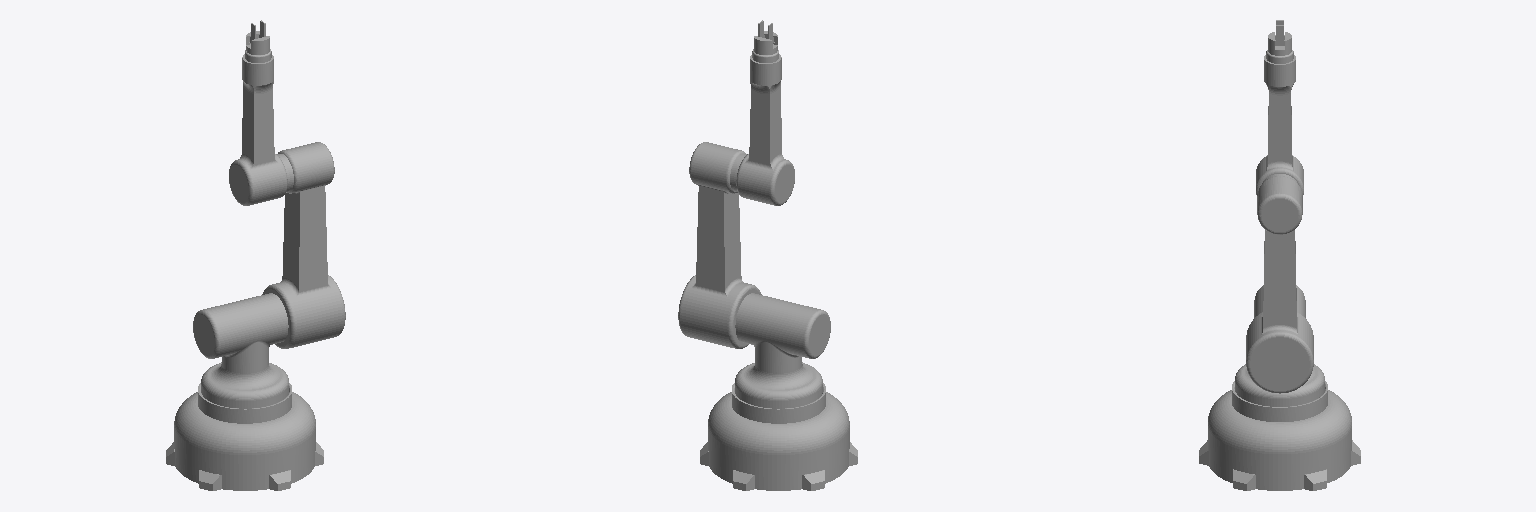
The robot description file, URDF, robot "assemblyhw":
<?xml version="1.0" ?>
<!-- =================================================================================== -->
<!-- |    This document was autogenerated by xacro from urdf/assemblyhw.xacro          | -->
<!-- |    EDITING THIS FILE BY HAND IS NOT RECOMMENDED                                 | -->
<!-- =================================================================================== -->
<robot xmlns:xacro="http://www.ros.org/wiki/xacro" name="assemblyhw">
  <material name="silver">
    <color rgba="0.700 0.700 0.700 1.000"/>
  </material>
  <transmission name="hand1_tran">
    <type>transmission_interface/SimpleTransmission</type>
    <joint name="hand1">
      <hardwareInterface>hardware_interface/EffortJointInterface</hardwareInterface>
    </joint>
    <actuator name="hand1_actr">
      <hardwareInterface>hardware_interface/EffortJointInterface</hardwareInterface>
      <mechanicalReduction>1</mechanicalReduction>
    </actuator>
  </transmission>
  <transmission name="hand2_tran">
    <type>transmission_interface/SimpleTransmission</type>
    <joint name="hand2">
      <hardwareInterface>hardware_interface/EffortJointInterface</hardwareInterface>
    </joint>
    <actuator name="hand2_actr">
      <hardwareInterface>hardware_interface/EffortJointInterface</hardwareInterface>
      <mechanicalReduction>1</mechanicalReduction>
    </actuator>
  </transmission>
  <transmission name="base1_tran">
    <type>transmission_interface/SimpleTransmission</type>
    <joint name="base1">
      <hardwareInterface>hardware_interface/EffortJointInterface</hardwareInterface>
    </joint>
    <actuator name="base1_actr">
      <hardwareInterface>hardware_interface/EffortJointInterface</hardwareInterface>
      <mechanicalReduction>1</mechanicalReduction>
    </actuator>
  </transmission>
  <transmission name="Revolute 9_tran">
    <type>transmission_interface/SimpleTransmission</type>
    <joint name="Revolute 9">
      <hardwareInterface>hardware_interface/EffortJointInterface</hardwareInterface>
    </joint>
    <actuator name="Revolute 9_actr">
      <hardwareInterface>hardware_interface/EffortJointInterface</hardwareInterface>
      <mechanicalReduction>1</mechanicalReduction>
    </actuator>
  </transmission>
  <transmission name="Slider 10_tran">
    <type>transmission_interface/SimpleTransmission</type>
    <joint name="Slider 10">
      <hardwareInterface>hardware_interface/EffortJointInterface</hardwareInterface>
    </joint>
    <actuator name="Slider 10_actr">
      <hardwareInterface>hardware_interface/EffortJointInterface</hardwareInterface>
      <mechanicalReduction>1</mechanicalReduction>
    </actuator>
  </transmission>
  <transmission name="Slider 11_tran">
    <type>transmission_interface/SimpleTransmission</type>
    <joint name="Slider 11">
      <hardwareInterface>hardware_interface/EffortJointInterface</hardwareInterface>
    </joint>
    <actuator name="Slider 11_actr">
      <hardwareInterface>hardware_interface/EffortJointInterface</hardwareInterface>
      <mechanicalReduction>1</mechanicalReduction>
    </actuator>
  </transmission>
  <gazebo>
    <plugin name="control" filename="libgazebo_ros_control.so"/>
  </gazebo>
  <gazebo reference="base_link">
    <material>Gazebo/Silver</material>
    <mu1>0.2</mu1>
    <mu2>0.2</mu2>
    <selfCollide>true</selfCollide>
    <gravity>true</gravity>
  </gazebo>
  <gazebo reference="hand1_1">
    <material>Gazebo/Silver</material>
    <mu1>0.2</mu1>
    <mu2>0.2</mu2>
    <selfCollide>true</selfCollide>
  </gazebo>
  <gazebo reference="hand2_1">
    <material>Gazebo/Silver</material>
    <mu1>0.2</mu1>
    <mu2>0.2</mu2>
    <selfCollide>true</selfCollide>
  </gazebo>
  <gazebo reference="base1_1">
    <material>Gazebo/Silver</material>
    <mu1>0.2</mu1>
    <mu2>0.2</mu2>
    <selfCollide>true</selfCollide>
  </gazebo>
  <gazebo reference="wrist_v4_1">
    <material>Gazebo/Silver</material>
    <mu1>0.2</mu1>
    <mu2>0.2</mu2>
    <selfCollide>true</selfCollide>
  </gazebo>
  <gazebo reference="finger1_1">
    <material>Gazebo/Silver</material>
    <mu1>0.2</mu1>
    <mu2>0.2</mu2>
    <selfCollide>true</selfCollide>
  </gazebo>
  <gazebo reference="finger2_1">
    <material>Gazebo/Silver</material>
    <mu1>0.2</mu1>
    <mu2>0.2</mu2>
    <selfCollide>true</selfCollide>
  </gazebo>
  <link name="base_link">
    <inertial>
      <origin xyz="0.0 1.11957974998403e-16 0.09697409774432439" rpy="0 0 0"/>
      <mass value="244.8758857118862"/>
      <inertia ixx="3.84943" iyy="3.84943" izz="6.04076" ixy="0.0" iyz="-0.0" ixz="-0.0"/>
    </inertial>
    <visual>
      <origin xyz="0 0 0" rpy="0 0 0"/>
      <geometry>
        <mesh filename="./meshes/base_link.stl" scale="0.001 0.001 0.001"/>
      </geometry>
      <material name="silver"/>
    </visual>
    <collision>
      <origin xyz="0 0 0" rpy="0 0 0"/>
      <geometry>
        <mesh filename="./meshes/base_link.stl" scale="0.001 0.001 0.001"/>
      </geometry>
    </collision>
  </link>
  <link name="hand1_1">
    <inertial>
      <origin xyz="0.07412617442620825 -1.5420641154757517e-10 0.14351217758324797" rpy="0 0 0"/>
      <mass value="85.33729038013276"/>
      <inertia ixx="3.303521" iyy="3.30036" izz="0.349673" ixy="-0.0" iyz="0.0" ixz="-0.070182"/>
    </inertial>
    <visual>
      <origin xyz="-0.15 -0.0 -0.475" rpy="0 0 0"/>
      <geometry>
        <mesh filename="./meshes/hand1_1.stl" scale="0.001 0.001 0.001"/>
      </geometry>
      <material name="silver"/>
    </visual>
    <collision>
      <origin xyz="-0.15 -0.0 -0.475" rpy="0 0 0"/>
      <geometry>
        <mesh filename="./meshes/hand1_1.stl" scale="0.001 0.001 0.001"/>
      </geometry>
    </collision>
  </link>
  <link name="hand2_1">
    <inertial>
      <origin xyz="-0.14352150264109592 -7.804039534531454e-07 0.07831972293069833" rpy="0 0 0"/>
      <mass value="43.03555765012974"/>
      <inertia ixx="0.747681" iyy="0.856211" izz="0.195127" ixy="-2e-06" iyz="9e-06" ixz="0.089241"/>
    </inertial>
    <visual>
      <origin xyz="-0.2175 0.0 -0.975" rpy="0 0 0"/>
      <geometry>
        <mesh filename="./meshes/hand2_1.stl" scale="0.001 0.001 0.001"/>
      </geometry>
      <material name="silver"/>
    </visual>
    <collision>
      <origin xyz="-0.2175 0.0 -0.975" rpy="0 0 0"/>
      <geometry>
        <mesh filename="./meshes/hand2_1.stl" scale="0.001 0.001 0.001"/>
      </geometry>
    </collision>
  </link>
  <link name="base1_1">
    <inertial>
      <origin xyz="4.836169655901825e-11 -1.1598052621142868e-09 0.16113737100942555" rpy="0 0 0"/>
      <mass value="109.73407398829693"/>
      <inertia ixx="1.640507" iyy="1.91243" izz="0.919182" ixy="0.0" iyz="0.0" ixz="-0.0"/>
    </inertial>
    <visual>
      <origin xyz="-0.0 -0.0 -0.2" rpy="0 0 0"/>
      <geometry>
        <mesh filename="./meshes/base1_1.stl" scale="0.001 0.001 0.001"/>
      </geometry>
      <material name="silver"/>
    </visual>
    <collision>
      <origin xyz="-0.0 -0.0 -0.2" rpy="0 0 0"/>
      <geometry>
        <mesh filename="./meshes/base1_1.stl" scale="0.001 0.001 0.001"/>
      </geometry>
    </collision>
  </link>
  <link name="wrist_v4_1">
    <inertial>
      <origin xyz="9.020562075079397e-17 -4.459105390460652e-16 0.052148530617012856" rpy="0 0 0"/>
      <mass value="4.459088294217796"/>
      <inertia ixx="0.00659" iyy="0.006394" izz="0.00388" ixy="-0.0" iyz="0.0" ixz="0.0"/>
    </inertial>
    <visual>
      <origin xyz="-0.0475 0.0 -1.35" rpy="0 0 0"/>
      <geometry>
        <mesh filename="./meshes/wrist_v4_1.stl" scale="0.001 0.001 0.001"/>
      </geometry>
      <material name="silver"/>
    </visual>
    <collision>
      <origin xyz="-0.0475 0.0 -1.35" rpy="0 0 0"/>
      <geometry>
        <mesh filename="./meshes/wrist_v4_1.stl" scale="0.001 0.001 0.001"/>
      </geometry>
    </collision>
  </link>
  <link name="finger1_1">
    <inertial>
      <origin xyz="4.221997508546682e-10 0.019999999999999483 0.021666667260345163" rpy="0 0 0"/>
      <mass value="0.0824249815180816"/>
      <inertia ixx="4.3e-05" iyy="3.6e-05" izz="7e-06" ixy="-0.0" iyz="-0.0" ixz="-0.0"/>
    </inertial>
    <visual>
      <origin xyz="-0.03 0.02 -1.46" rpy="0 0 0"/>
      <geometry>
        <mesh filename="./meshes/finger1_1.stl" scale="0.001 0.001 0.001"/>
      </geometry>
      <material name="silver"/>
    </visual>
    <collision>
      <origin xyz="-0.03 0.02 -1.46" rpy="0 0 0"/>
      <geometry>
        <mesh filename="./meshes/finger1_1.stl" scale="0.001 0.001 0.001"/>
      </geometry>
    </collision>
  </link>
  <link name="finger2_1">
    <inertial>
      <origin xyz="-2.3770894974628476e-10 -0.020000000000000438 0.02166666566142661" rpy="0 0 0"/>
      <mass value="0.08242498760073742"/>
      <inertia ixx="4.3e-05" iyy="3.6e-05" izz="7e-06" ixy="0.0" iyz="0.0" ixz="0.0"/>
    </inertial>
    <visual>
      <origin xyz="-0.065 -0.02 -1.46" rpy="0 0 0"/>
      <geometry>
        <mesh filename="./meshes/finger2_1.stl" scale="0.001 0.001 0.001"/>
      </geometry>
      <material name="silver"/>
    </visual>
    <collision>
      <origin xyz="-0.065 -0.02 -1.46" rpy="0 0 0"/>
      <geometry>
        <mesh filename="./meshes/finger2_1.stl" scale="0.001 0.001 0.001"/>
      </geometry>
    </collision>
  </link>
  <joint name="hand1" type="revolute">
    <origin xyz="0.15 0.0 0.275" rpy="0 0 0"/>
    <parent link="base1_1"/>
    <child link="hand1_1"/>
    <axis xyz="1.0 0.0 0.0"/>
    <limit upper="1.047198" lower="-1.047198" effort="100" velocity="100"/>
  </joint>
  <joint name="hand2" type="revolute">
    <origin xyz="0.0675 -0.0 0.5" rpy="0 0 0"/>
    <parent link="hand1_1"/>
    <child link="hand2_1"/>
    <axis xyz="-1.0 0.0 -0.0"/>
    <limit upper="2.792527" lower="-2.792527" effort="100" velocity="100"/>
  </joint>
  <joint name="base1" type="continuous">
    <origin xyz="0.0 0.0 0.2" rpy="0 0 0"/>
    <parent link="base_link"/>
    <child link="base1_1"/>
    <axis xyz="0.0 0.0 1.0"/>
  </joint>
  <joint name="Revolute 9" type="continuous">
    <origin xyz="-0.17 0.0 0.375" rpy="0 0 0"/>
    <parent link="hand2_1"/>
    <child link="wrist_v4_1"/>
    <axis xyz="-0.0 -0.0 1.0"/>
  </joint>
  <joint name="Slider 10" type="prismatic">
    <origin xyz="-0.0175 -0.02 0.11" rpy="0 0 0"/>
    <parent link="wrist_v4_1"/>
    <child link="finger1_1"/>
    <axis xyz="1.0 -0.0 -0.0"/>
    <limit upper="0.01" lower="-0.01" effort="100" velocity="100"/>
  </joint>
  <joint name="Slider 11" type="prismatic">
    <origin xyz="0.0175 0.02 0.11" rpy="0 0 0"/>
    <parent link="wrist_v4_1"/>
    <child link="finger2_1"/>
    <axis xyz="1.0 -0.0 -0.0"/>
    <limit upper="0.01" lower="-0.01" effort="100" velocity="100"/>
  </joint>
</robot>

--- Facts derived from the render (not from the file) ---
3 views of the same robot in one strip: view 1: azimuth 30°, elevation 25°; view 2: azimuth 150°, elevation 25°; view 3: azimuth 270°, elevation 25° (orthographic).
Model assemblyhw with 7 links and 6 joints (2 revolute, 2 continuous, 2 prismatic), rooted at base_link, posed all joints at 0.
Visible links, largest first — view 1: base_link, hand1_1, base1_1, hand2_1, wrist_v4_1; view 2: base_link, hand1_1, base1_1, hand2_1, wrist_v4_1; view 3: base_link, hand1_1, hand2_1, base1_1, wrist_v4_1.
Boxes of the visible links, box(x1,y1,x2,y2) form: base_link: box(166, 383, 323, 490); hand1_1: box(262, 142, 345, 348); base1_1: box(193, 293, 288, 408); hand2_1: box(229, 54, 293, 205); wrist_v4_1: box(245, 31, 271, 62); base_link: box(700, 383, 857, 490); hand1_1: box(678, 142, 761, 348); base1_1: box(735, 293, 830, 408); hand2_1: box(730, 54, 794, 205); wrist_v4_1: box(752, 31, 778, 62); base_link: box(1199, 381, 1360, 490); hand1_1: box(1246, 176, 1313, 393); hand2_1: box(1256, 55, 1303, 195); base1_1: box(1235, 285, 1324, 406); wrist_v4_1: box(1266, 32, 1293, 63).
Bounding box of the posed robot: 0.5415 × 0.5 × 1.52 m (x, y, z).
Meshes: 7 distinct files referenced, 7 mesh visuals loaded (7 binary STL).
